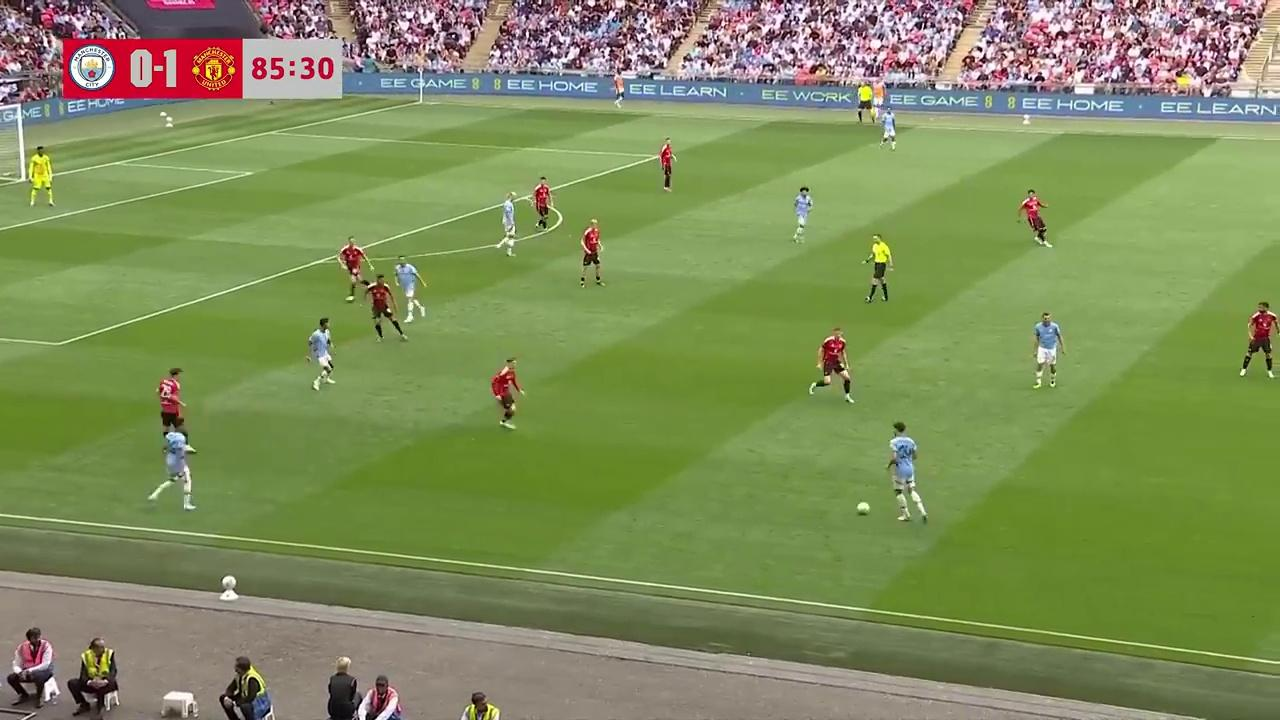ball: (855, 498, 871, 515)
player: (146, 422, 197, 511), (886, 421, 928, 523), (809, 326, 854, 404), (1239, 300, 1278, 379), (367, 276, 407, 343), (491, 356, 525, 430), (1032, 311, 1064, 389), (155, 367, 189, 435), (393, 256, 427, 319), (308, 317, 336, 390), (338, 236, 368, 302), (1018, 189, 1051, 247), (579, 220, 604, 288), (28, 145, 55, 207), (497, 191, 517, 256), (531, 177, 554, 232), (792, 186, 813, 244), (657, 138, 676, 191), (879, 108, 897, 150)
referee: (863, 233, 893, 302), (856, 83, 878, 125)
